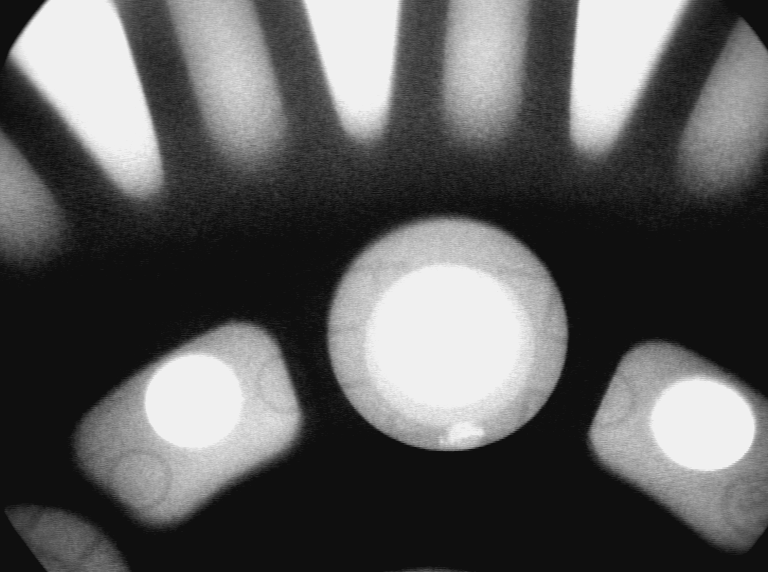defect: (444, 422, 487, 457)
